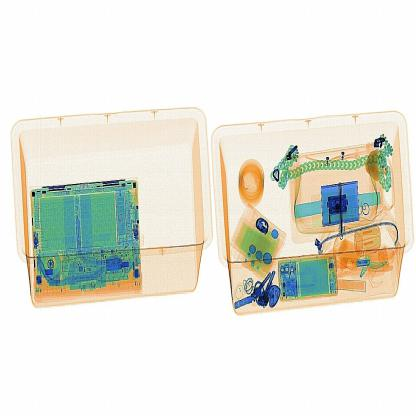knife: (336, 179, 348, 240)
